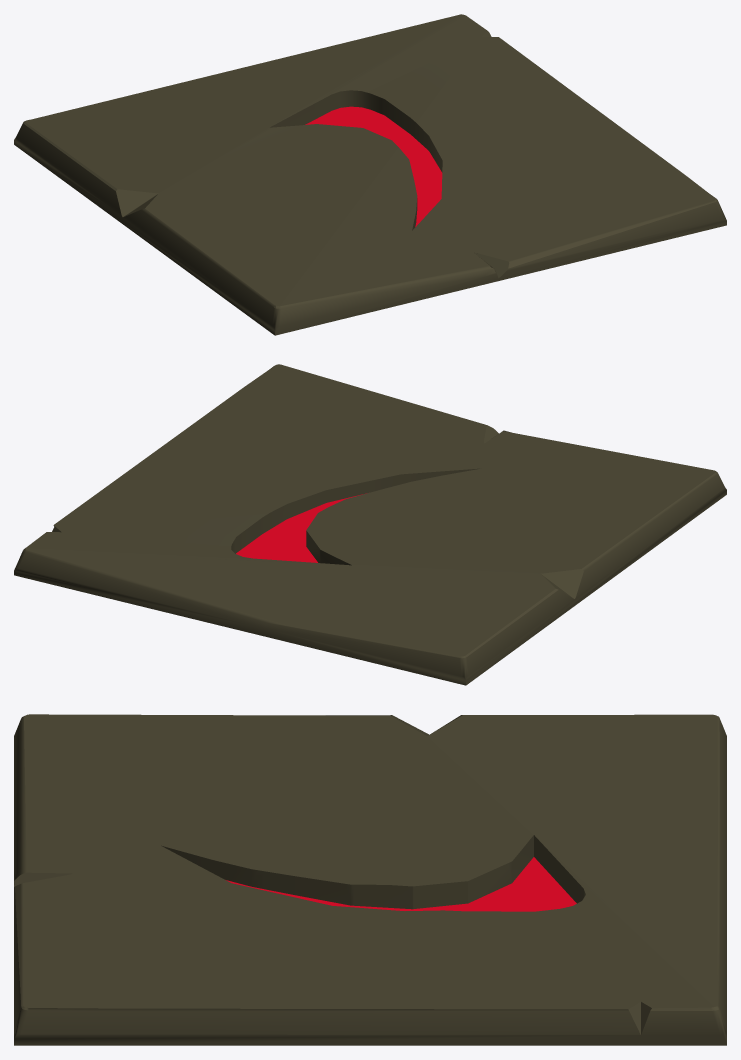
File: I-dalle.fbx
3 renders of one model, top to bottom at view 1: azimuth 30°, elevation 25°; view 2: azimuth 150°, elevation 25°; view 3: azimuth 270°, elevation 25°, orthographic. The views are drawn at different scales.
Parts seen in each view (by area): view 1: pCube153; view 2: pCube153; view 3: pCube153.
Part boxes in pixels (<box>): pCube153: <box>14,14,726,335</box>; pCube153: <box>14,364,726,685</box>; pCube153: <box>14,714,726,1045</box>.
Size of the model in its own units: 167 by 8.75 by 167.
